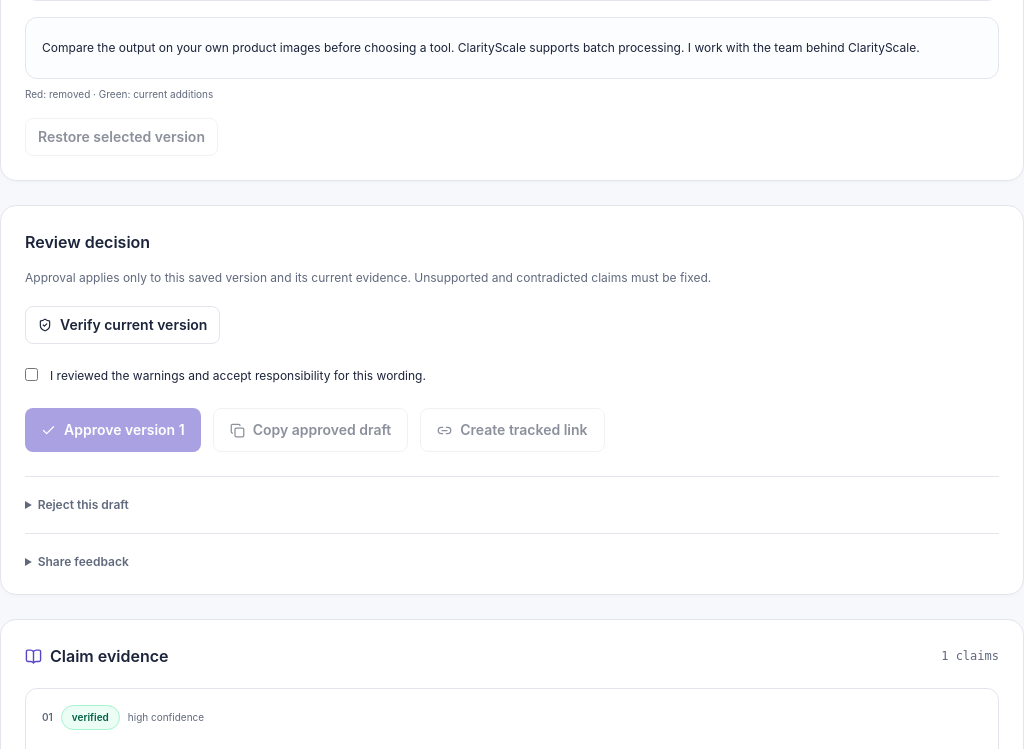
Test: draft evidence studio › requires warning acknowledgement and fresh context
(page scrolled)
Expected: the button "Approve version 1" is disabled, top-left (25, 408), bottom-right (201, 452)
Click the checkbox labelled "I reviewed the warnings": (32, 374) top-left (25, 368), bottom-right (38, 381)
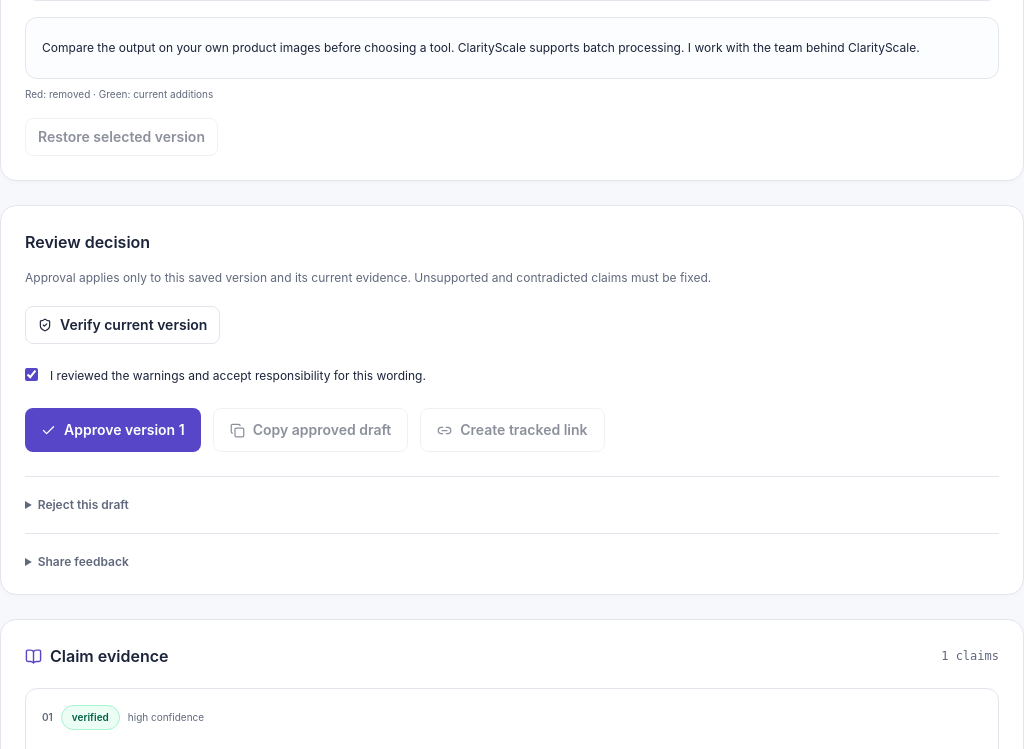
Expected: the button "Approve version 1" is enabled, top-left (25, 408), bottom-right (201, 452)
